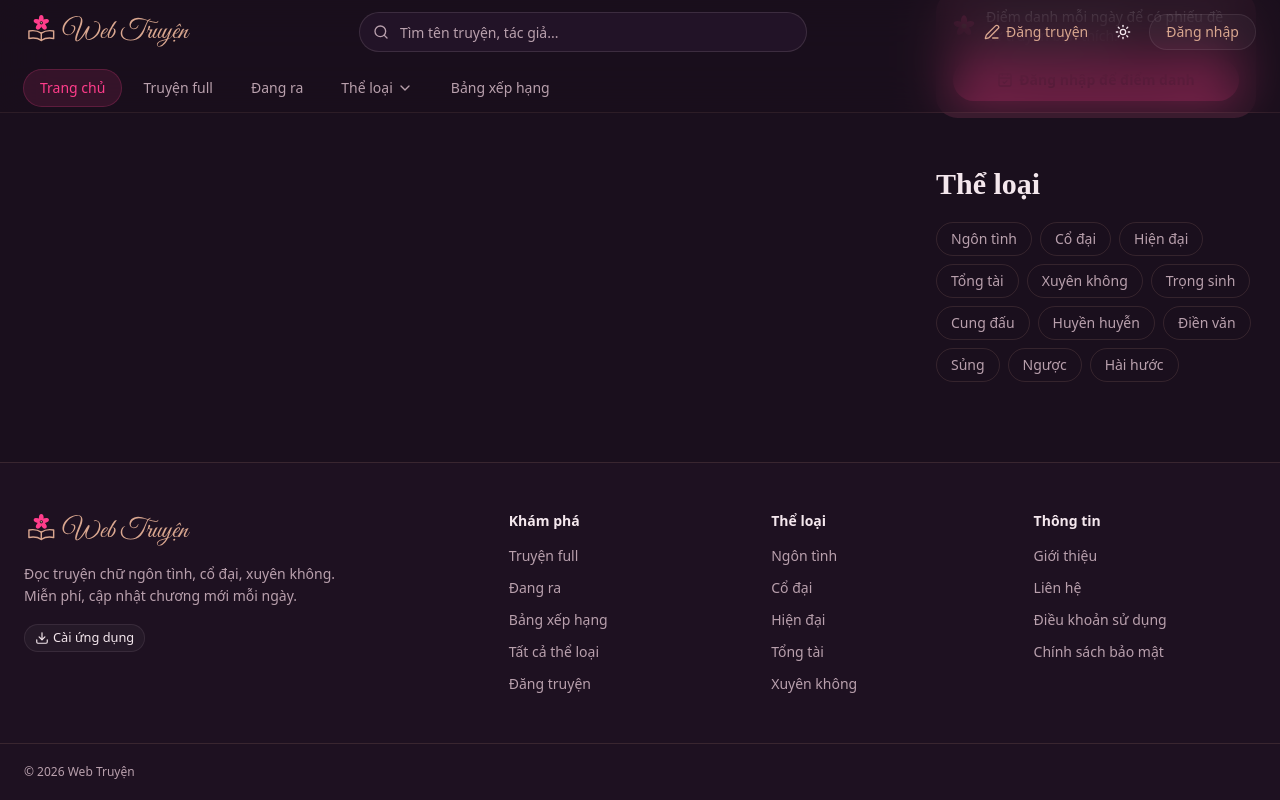
Test case: trình duyệt cho cài thì hiện nút; bấm thì mở hộp cài của trình duyệt
(page scrolled)
Expected: the footer is shown, [0,462,1279,799]
What coordinates should you click on to do the following:
click the button "Cài ứng dụng"
I would click on:
 (85, 638)
Its box is [24,624,145,652].
(page scrolled)
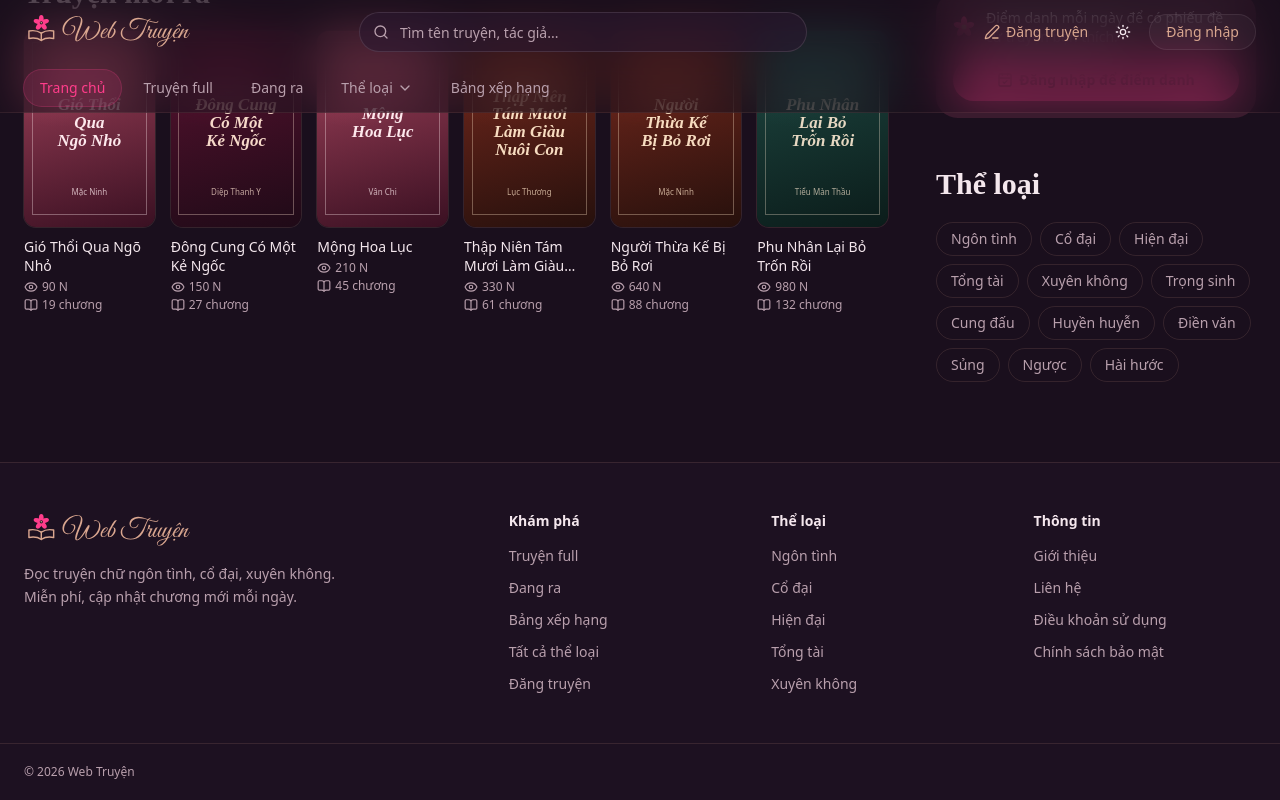
Expected: the button "Cài ứng dụng" is gone
